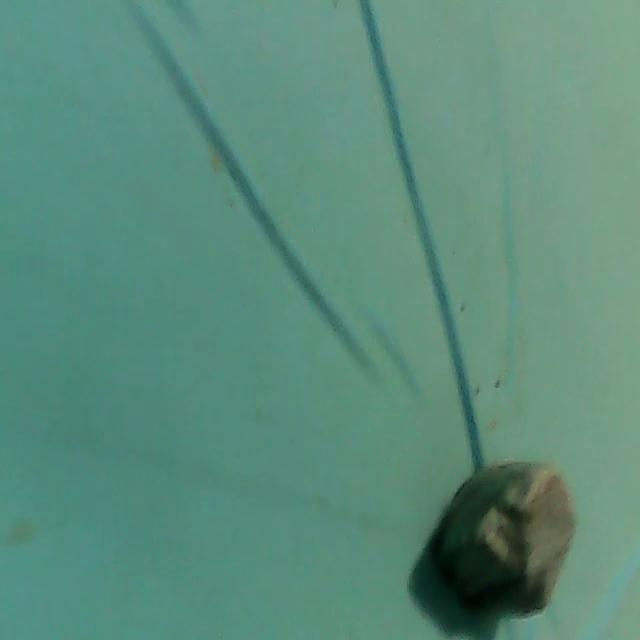rock: (424, 452, 586, 632)
